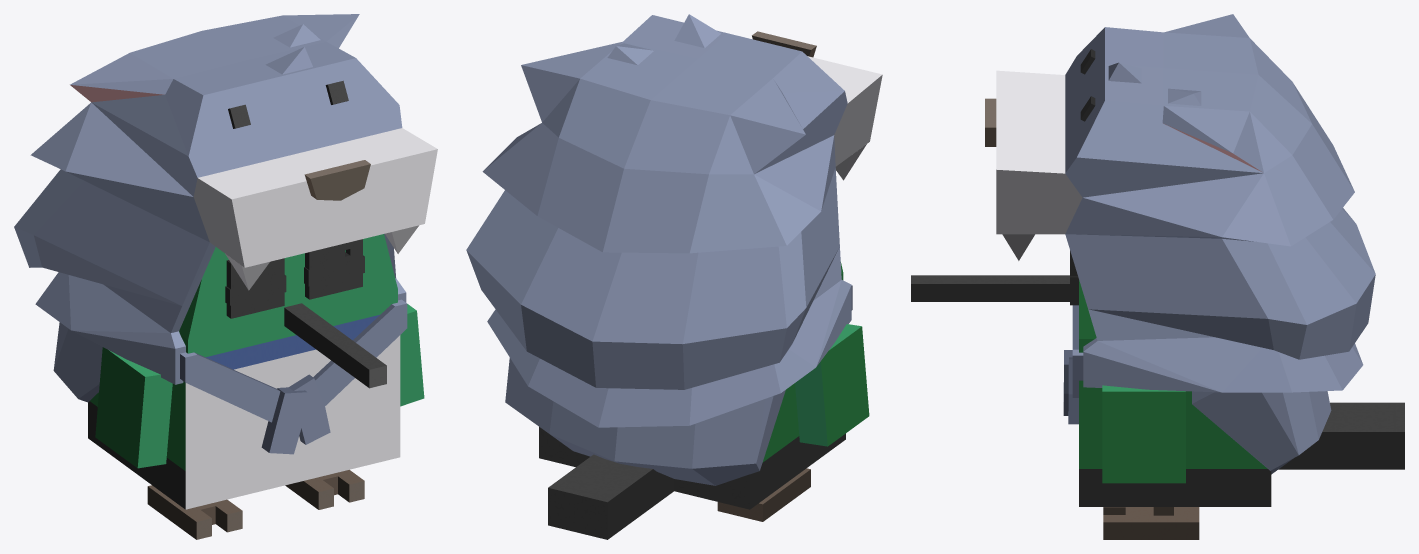
3 renders of one model, left to right at view 1: azimuth 30°, elevation 25°; view 2: azimuth 150°, elevation 25°; view 3: azimuth 270°, elevation 25°, orthographic.
Visible parts, largest first — view 1: Ch_16_Head, Ch_16, Ch_16_Wing_L, Ch_16_Leg_L, Ch_16_Eye_01, Ch_16_Leg_R, Ch_16_Wing_R, Ch_16_Eye_03_R, Ch_16_Eye_03_L, Ch_16_Eye_02; view 2: Ch_16_Head, Ch_16, Ch_16_Wing_L, Ch_16_Leg_L; view 3: Ch_16_Head, Ch_16, Ch_16_Wing_R, Ch_16_Leg_R.
Boxes of the visible parts, x1,y1,x2,y2 form: Ch_16_Head: (14,14,437,388); Ch_16: (53,299,407,509); Ch_16_Wing_L: (95,347,172,468); Ch_16_Leg_L: (147,485,242,539); Ch_16_Eye_01: (250,243,344,308); Ch_16_Leg_R: (285,469,364,509); Ch_16_Wing_R: (400,304,424,406); Ch_16_Eye_03_R: (305,239,362,299); Ch_16_Eye_03_L: (226,258,284,318); Ch_16_Eye_02: (225,255,364,305); Ch_16_Head: (466,14,882,427); Ch_16: (505,285,852,539); Ch_16_Wing_L: (795,324,869,446); Ch_16_Leg_L: (717,468,810,521); Ch_16_Head: (911,14,1375,392); Ch_16: (1063,305,1404,506); Ch_16_Wing_R: (1102,385,1185,483); Ch_16_Leg_R: (1103,507,1199,539).
Size of the model in its own units: 10.17 by 13.66 by 13.52.
